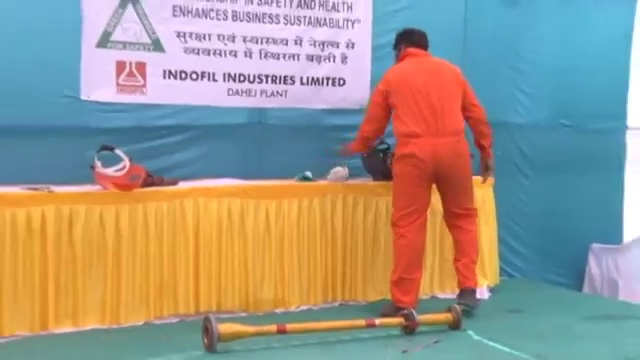helmet_off: (392, 28, 429, 62)
person: (341, 23, 500, 322)
